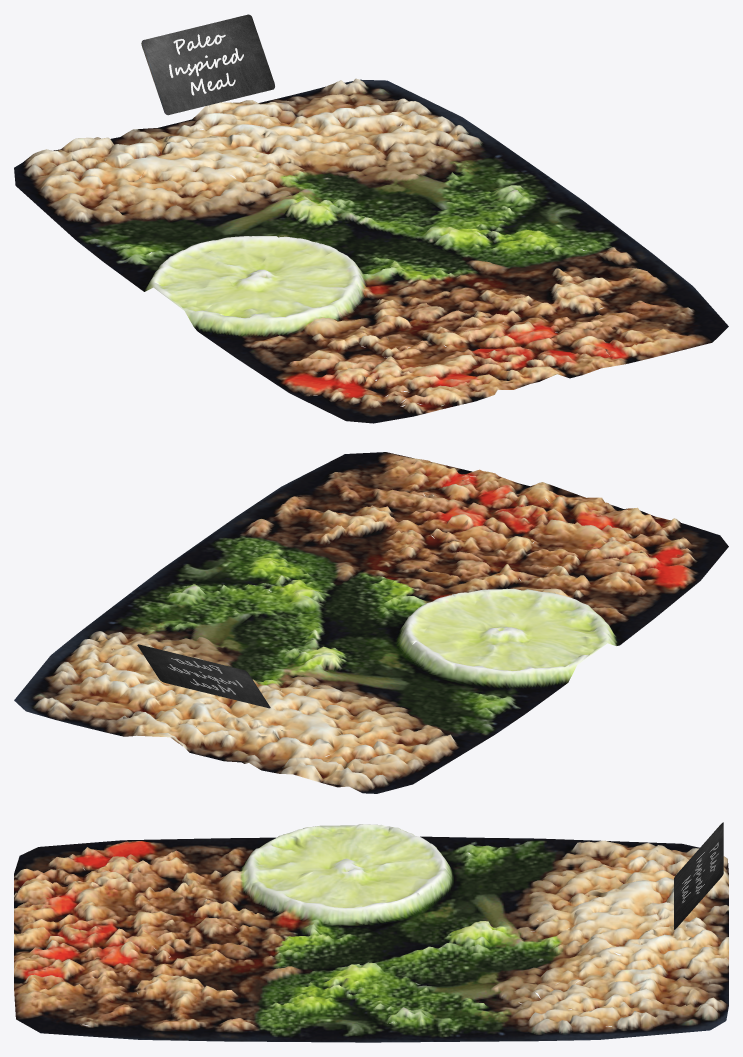
Rendered from food_tray_5.glb.
3 views of the same model, one above another, from view 1: azimuth 30°, elevation 25°; view 2: azimuth 150°, elevation 25°; view 3: azimuth 270°, elevation 25° (orthographic).
Visible parts, largest first — view 1: Material2.023, Material2.022; view 2: Material2.023, Material2.022; view 3: Material2.023, Material2.022.
Boxes of the visible parts, x1,y1,x2,y2 form: Material2.023: (14,78,728,423); Material2.022: (141,14,274,115); Material2.023: (14,452,728,793); Material2.022: (137,644,270,708); Material2.023: (14,824,728,1042); Material2.022: (674,822,723,929).
Size of the model in its own units: 6.81 by 1.44 by 10.02.
Materials: 2 (2 with a texture image).
